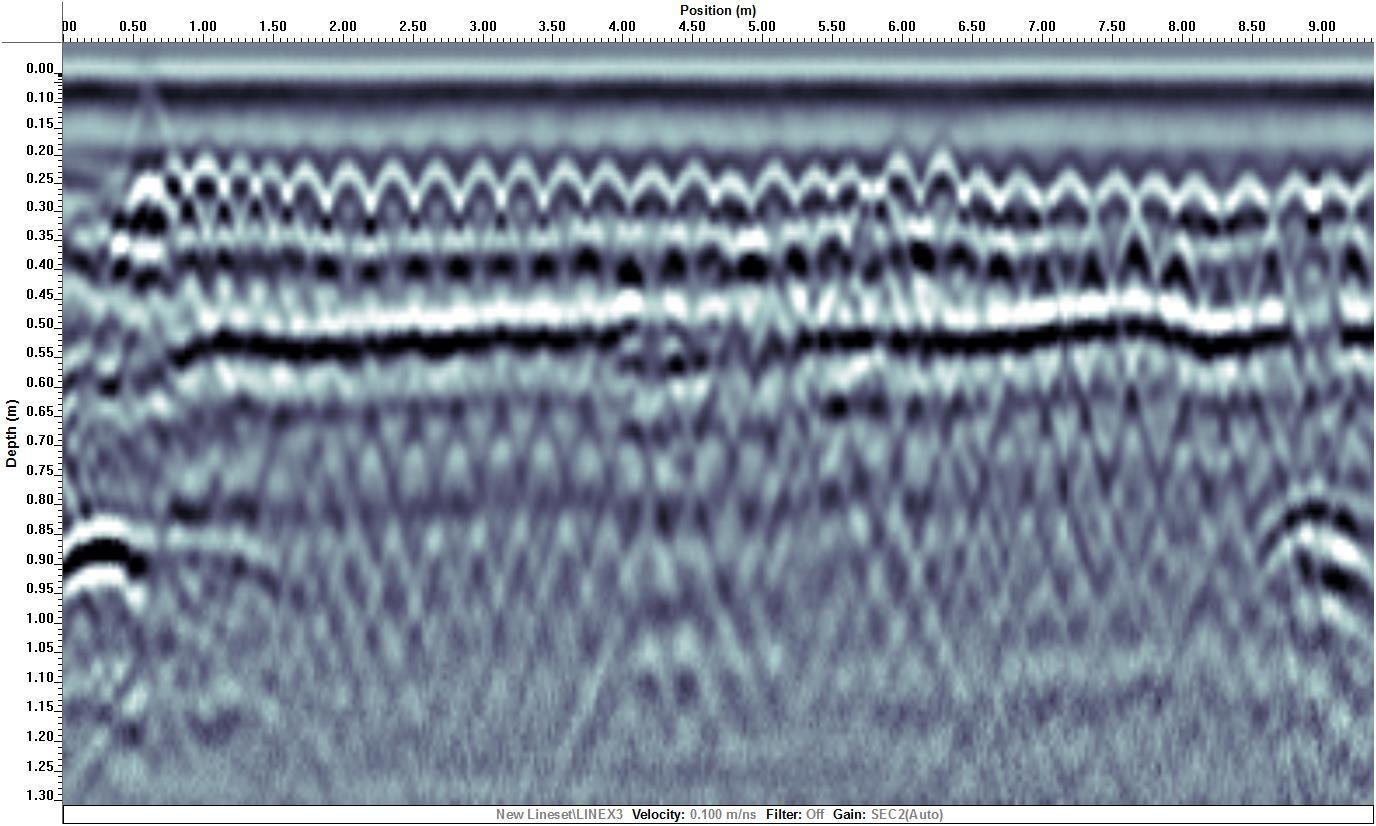hyperbola: (284, 143, 328, 225), (329, 147, 373, 229), (370, 148, 414, 230), (416, 140, 460, 222), (458, 146, 502, 228), (503, 146, 547, 228), (546, 142, 590, 224), (583, 146, 627, 228), (633, 156, 677, 238), (670, 145, 714, 227), (705, 153, 749, 235), (749, 147, 793, 229), (794, 153, 838, 235), (879, 140, 923, 222), (920, 135, 964, 217), (961, 151, 1005, 233), (1006, 157, 1050, 239), (1052, 162, 1096, 244), (1093, 153, 1137, 235), (1130, 160, 1174, 242), (1176, 159, 1220, 241), (1228, 159, 1272, 241)
